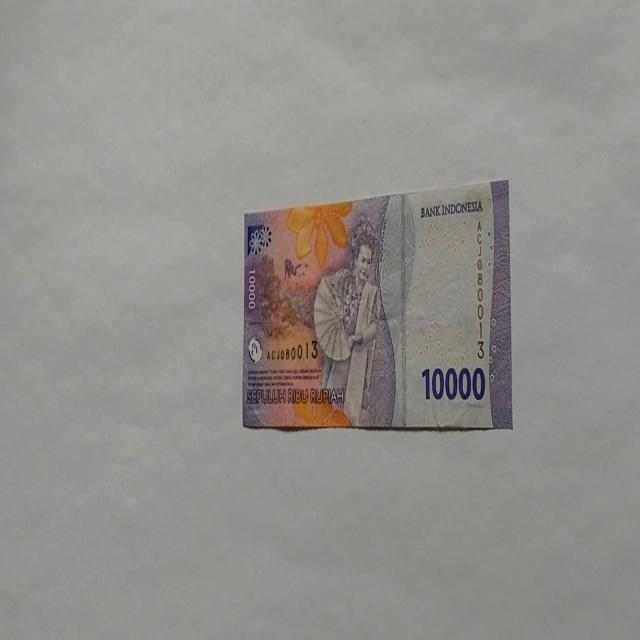sepuluh ribu rupiah: (241, 178, 513, 432)
